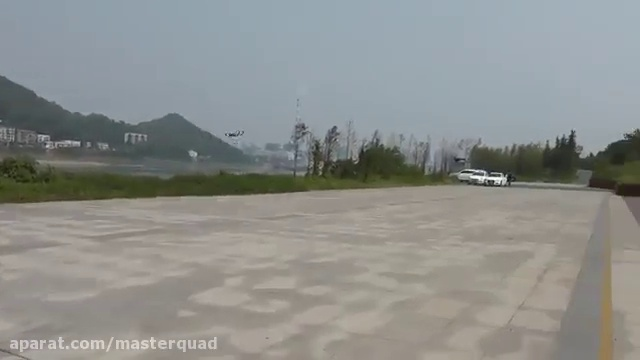drone_other: (222, 125, 245, 138)
